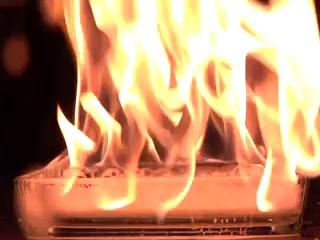Fire: (45, 1, 315, 206)
